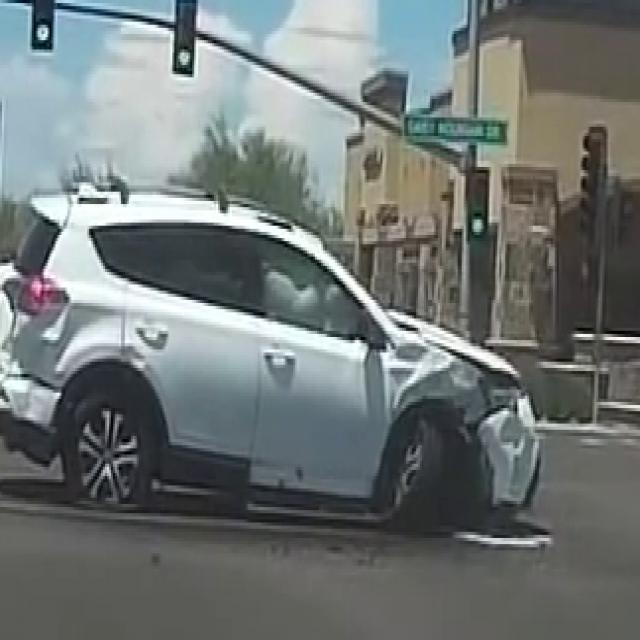accident: (33, 169, 550, 543)
